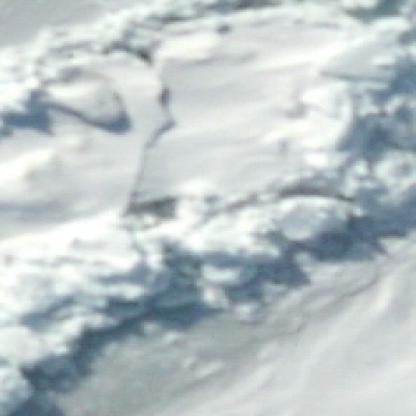polar-bear: (119, 193, 177, 229)
